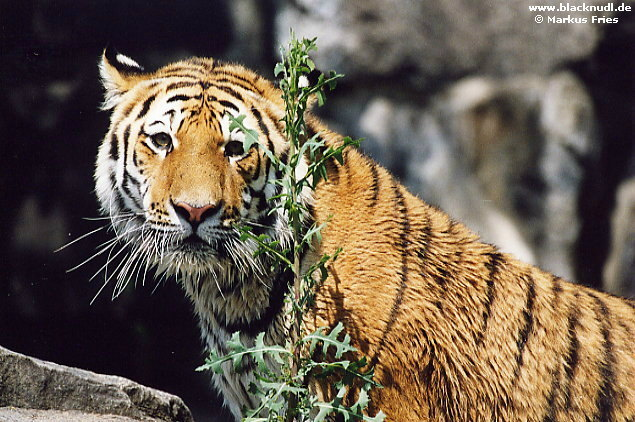Tigre: (86, 40, 347, 271)
